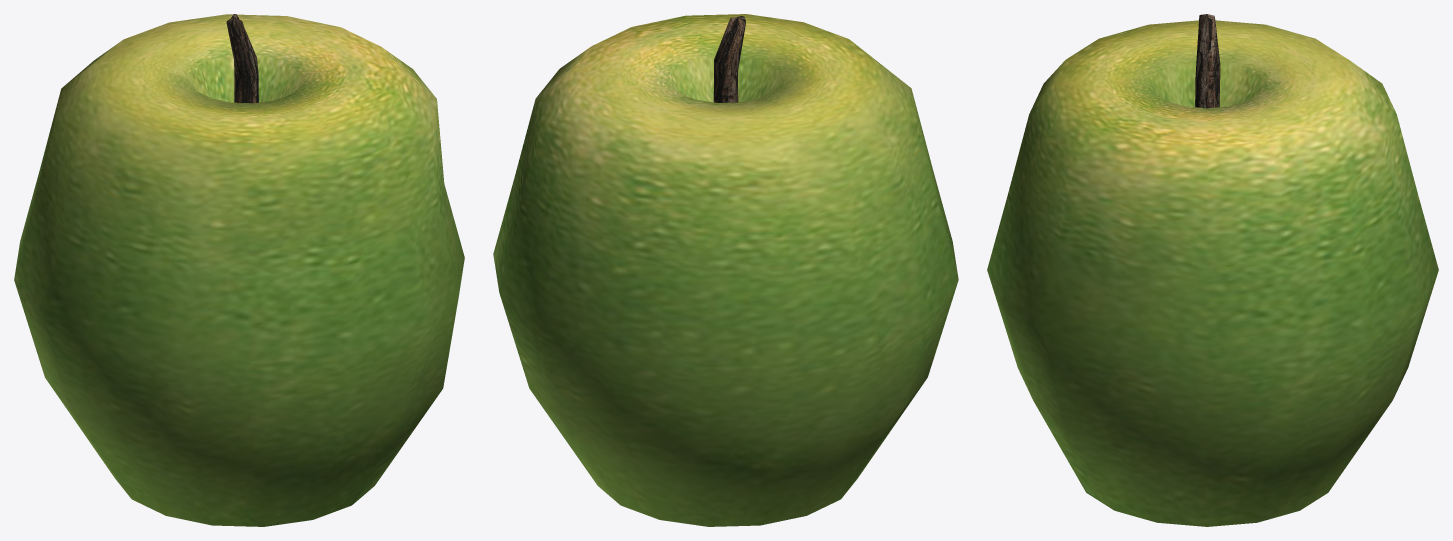
File: apple.glb
3 views of the same model, side by side, from view 1: azimuth 30°, elevation 25°; view 2: azimuth 150°, elevation 25°; view 3: azimuth 270°, elevation 25° (orthographic).
Visible parts, largest first — view 1: Cube.001; view 2: Cube.001; view 3: Cube.001.
Boxes of the visible parts, x1,y1,x2,y2 form: Cube.001: [14, 14, 464, 526]; Cube.001: [493, 14, 958, 526]; Cube.001: [987, 14, 1438, 526].
Bounding box in the file's own units: 0.2082 × 0.233 × 0.2031.
Materials: 2 (2 with a texture image).
